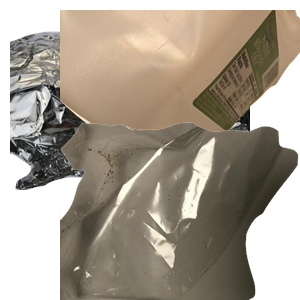glass: (94, 184, 253, 300)
metal: (10, 10, 250, 190)
plastic: (60, 10, 300, 160)
trash: (60, 120, 300, 300)
